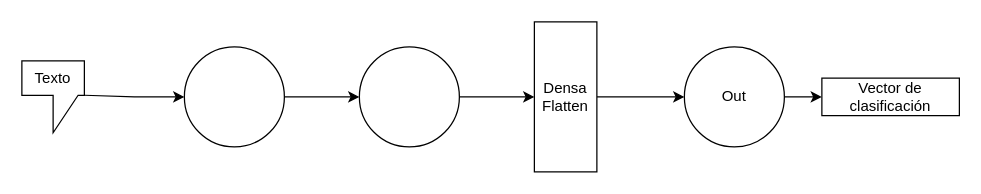
Some shapes in this 981 by 194 pixel diagram are drawn without their labels. The shapes that lost their labels are listed below. From the top down, each one's centre as x and y in pixels, then its label:
At (233,96): "Covertidor".
At (408,96): "Bidireccional".
